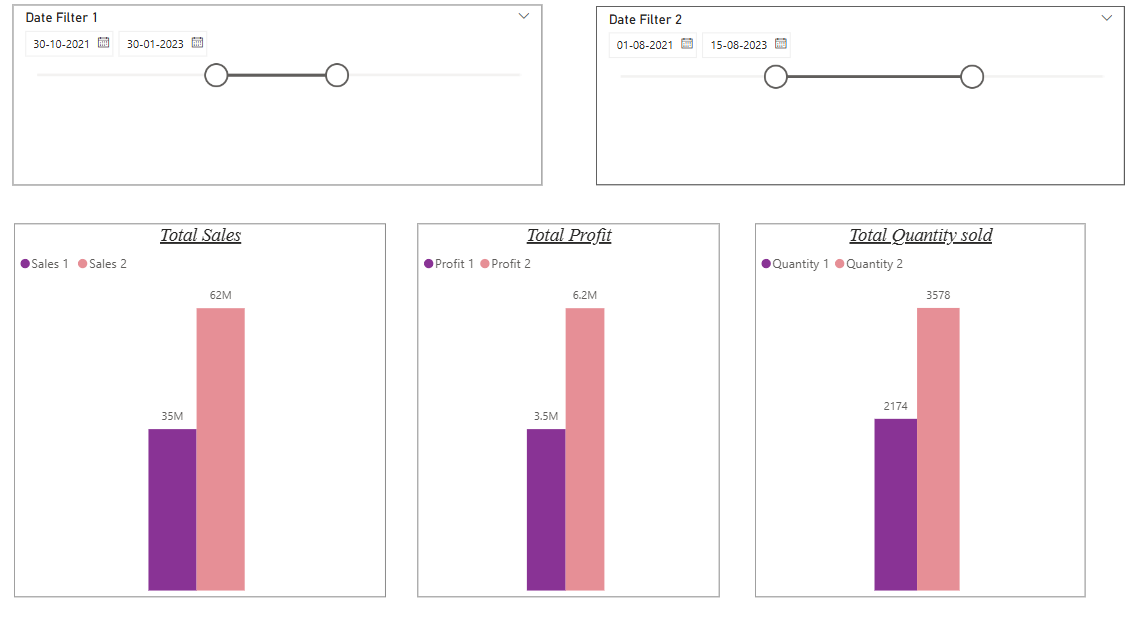

What the dashboard file says about the page in this screenshot:
{"tool":"powerbi","page":{"name":"Comparisions Sales/ Profit/ Quantity","canvas":[1280,720],"ordinal":2},"visuals":[{"type":"slicer","fields":{"Values":["Date Table 1.Date"]},"box":[28.3,18.3,571.7,195],"z":0},{"type":"clusteredColumnChart","title":"Total Sales","fields":{"Y":["Sum(Fact Table.Net Sales )","Date Table 1.Sum of Net sales"]},"box":[29,254.8,401.6,403.2],"z":1000},{"type":"slicer","fields":{"Values":["Date Table 2.Date"]},"box":[658.1,19.4,571,193.5],"z":2000},{"type":"clusteredColumnChart","title":"Total Profit","fields":{"Y":["Sum(Fact Table.Profit)","Measures Table.Total Profit"]},"box":[464.5,254.8,325.8,403.2],"z":3000},{"type":"clusteredColumnChart","title":"Total Quantity sold","fields":{"Y":["Sum(Fact Table.Units Sold)","Measures Table.Quantity sold"]},"box":[829,254.8,356.5,403.2],"z":4000}]}

Visuals, with their boxes in screenshot pixels (x1, y1, x2, y2), scaled from the page's 1280x720 canvas onto the 1129x628 screenshot:
slicer - Date Table 1.Date: [x1=25, y1=16, x2=529, y2=186]
"Total Sales" clusteredColumnChart: [x1=26, y1=222, x2=380, y2=574]
slicer - Date Table 2.Date: [x1=580, y1=17, x2=1084, y2=186]
"Total Profit" clusteredColumnChart: [x1=410, y1=222, x2=697, y2=574]
"Total Quantity sold" clusteredColumnChart: [x1=731, y1=222, x2=1046, y2=574]
